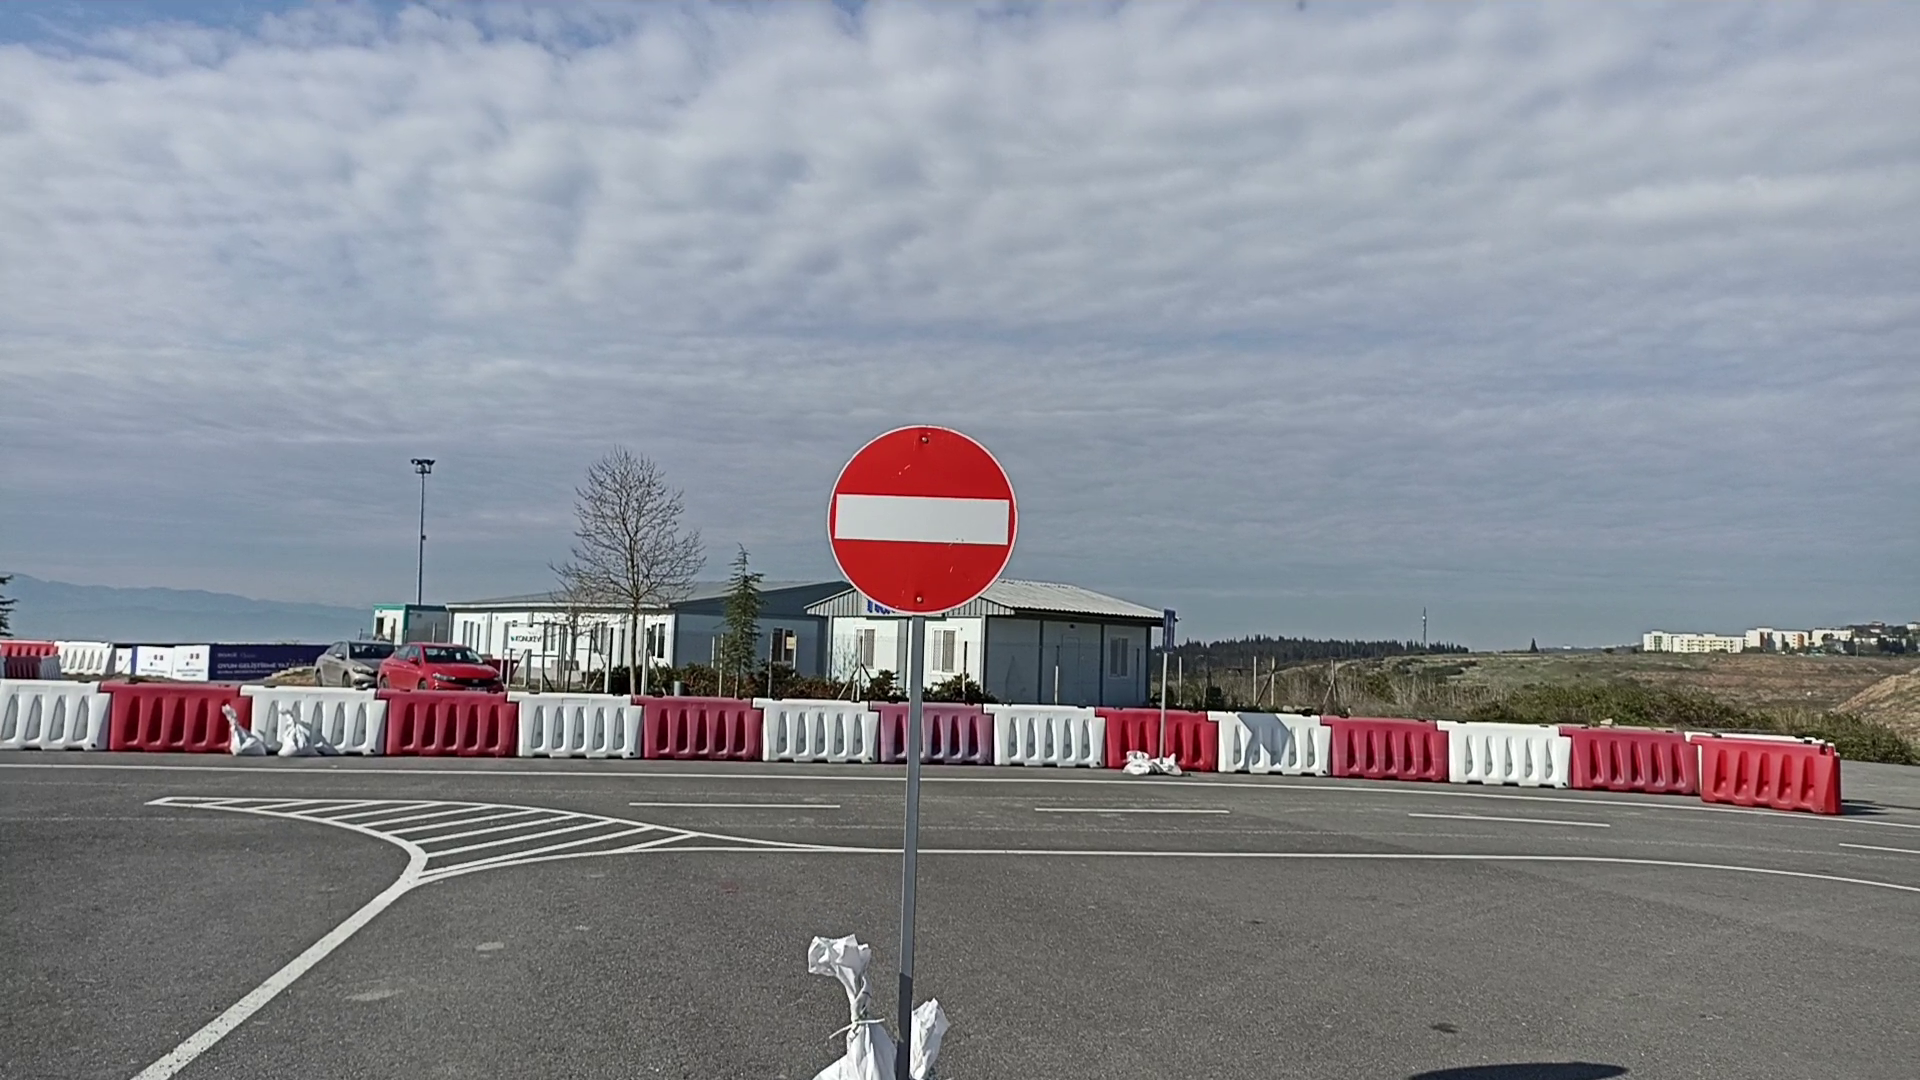noentryway: (824, 419, 1021, 622)
